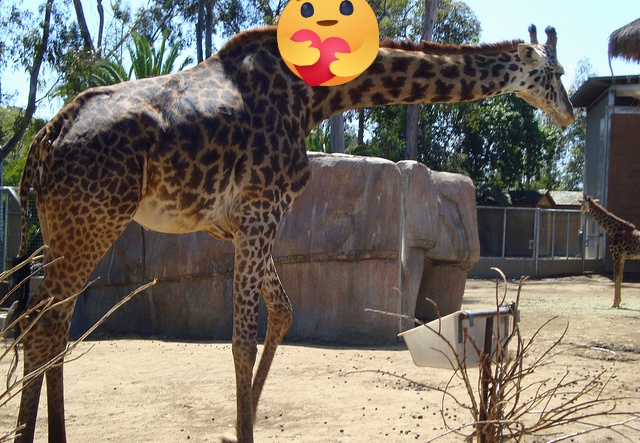care: (277, 0, 379, 86)
